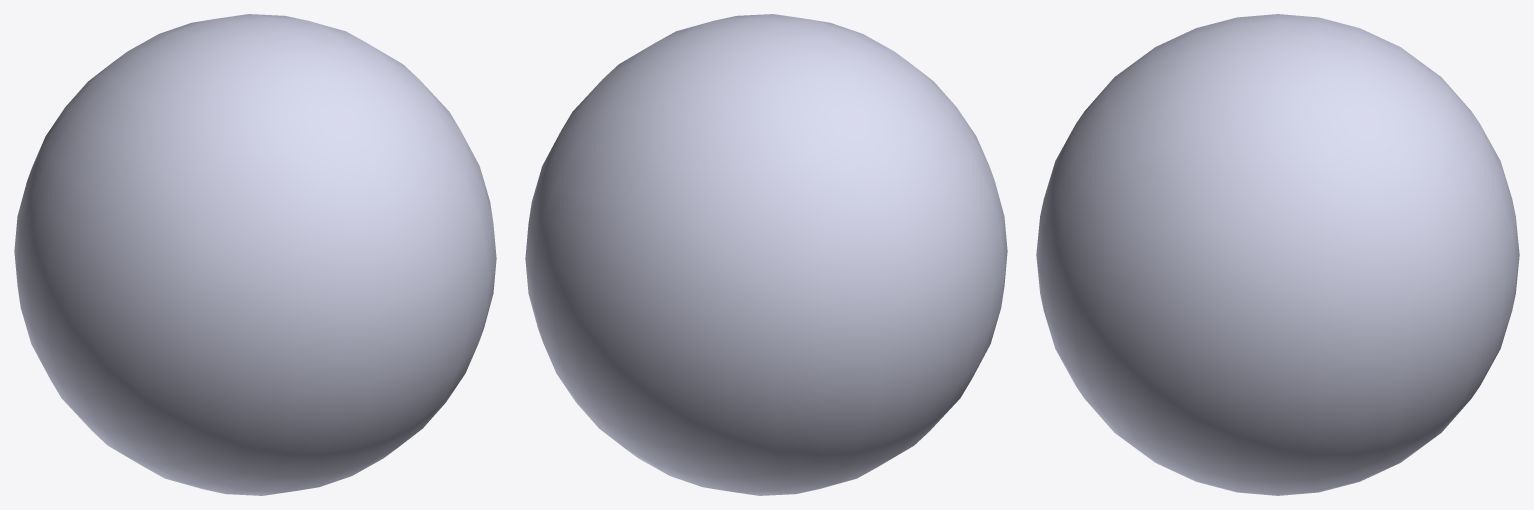
The picture shows the model from 3 angles, left to right: view 1: azimuth 30°, elevation 25°; view 2: azimuth 150°, elevation 25°; view 3: azimuth 270°, elevation 25°; orthographic projection.
Visible parts, largest first — view 1: Sphere; view 2: Sphere; view 3: Sphere.
Boxes of the visible parts, bbox=[...] form: Sphere: bbox=[14, 14, 496, 495]; Sphere: bbox=[525, 14, 1007, 495]; Sphere: bbox=[1036, 14, 1519, 495].
Size of the model in its own units: 5000 by 5000 by 5000.
